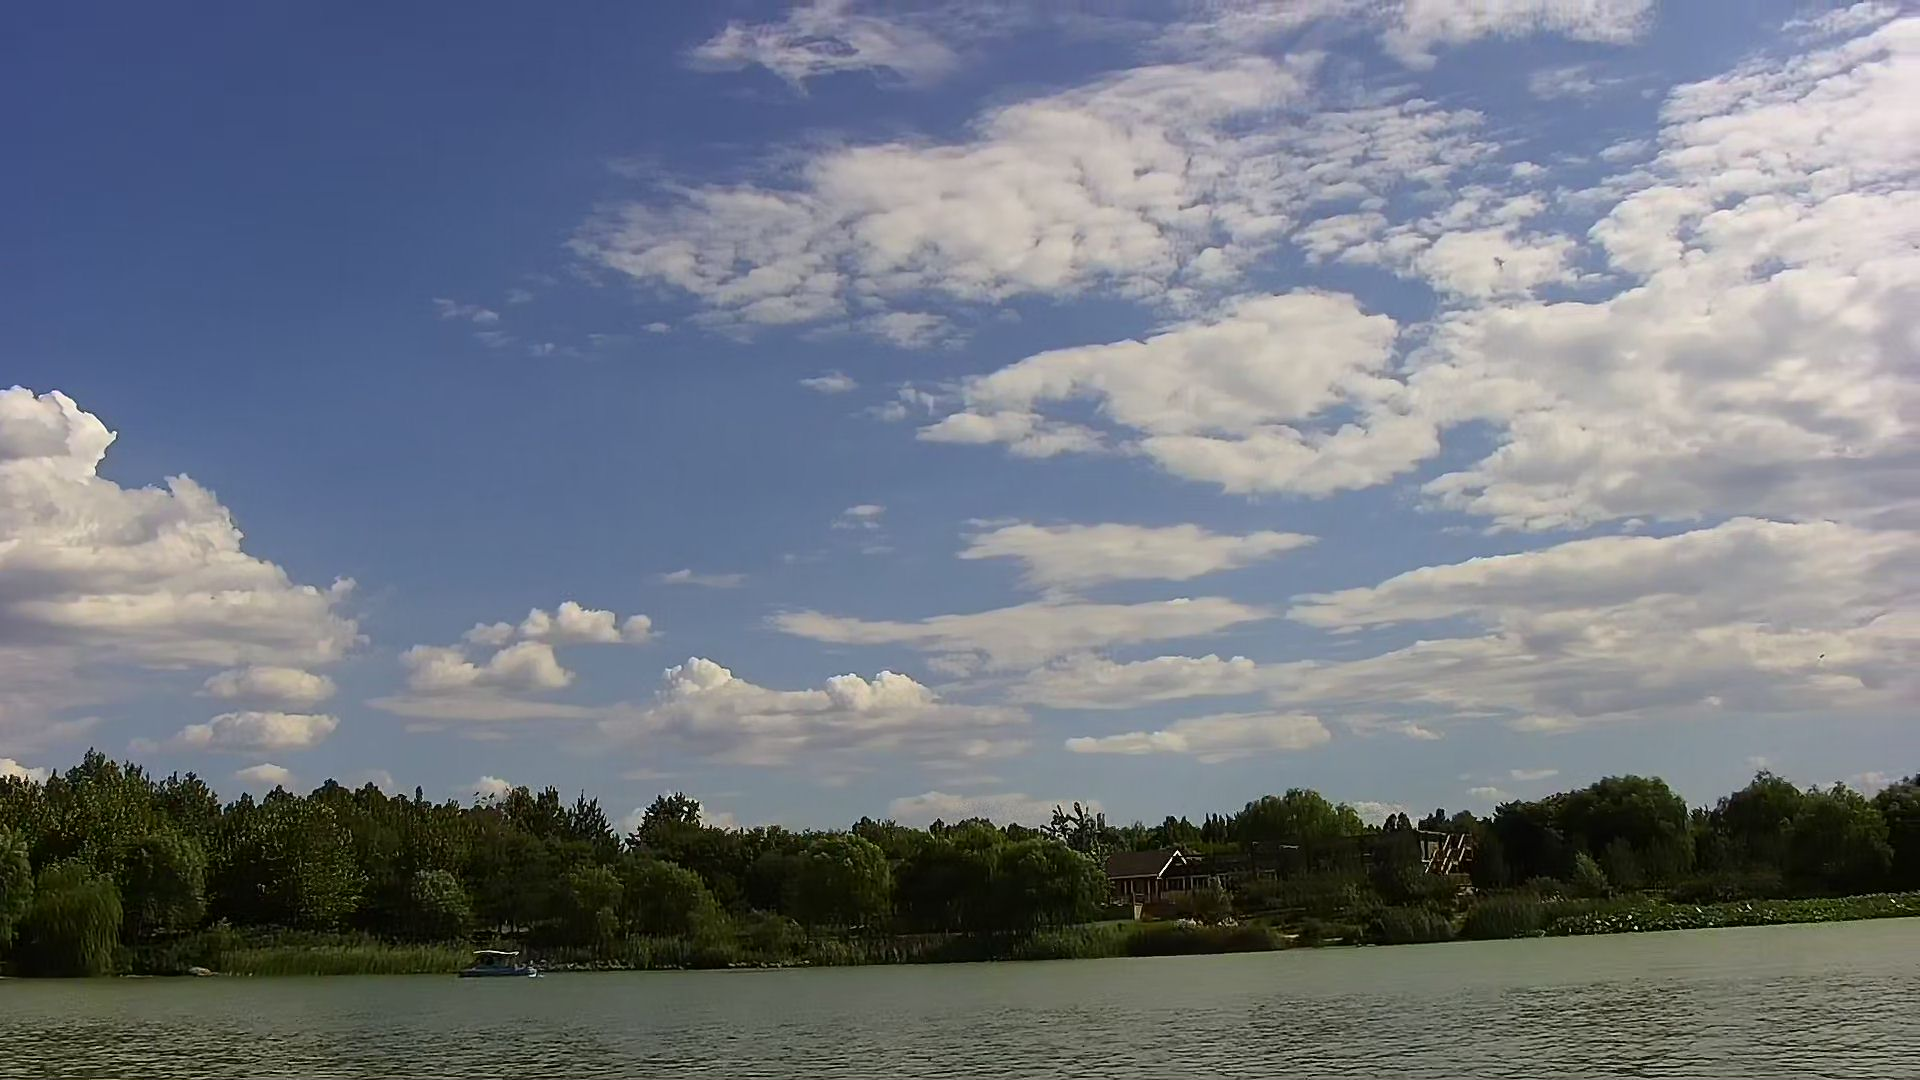boat: (454, 942, 545, 984)
